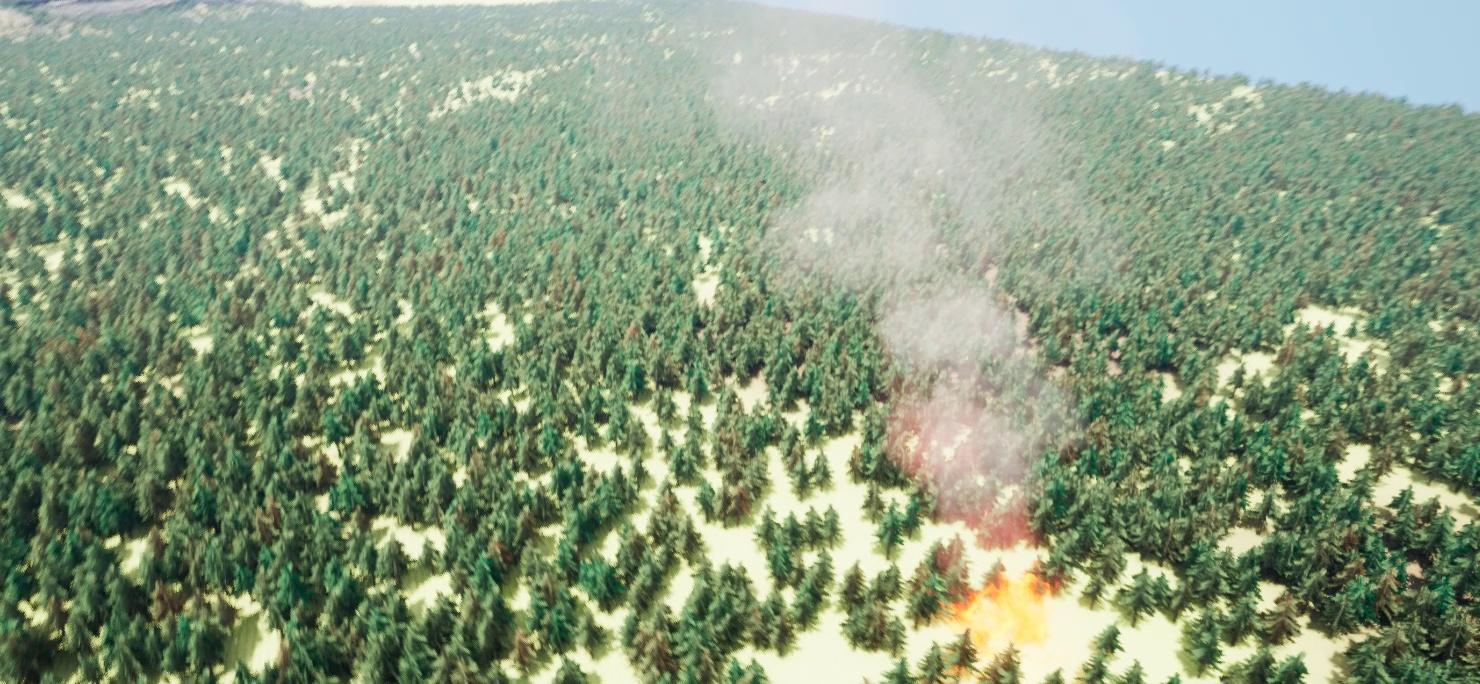fire: (941, 564, 1056, 657)
smoke: (685, 0, 1118, 541)
